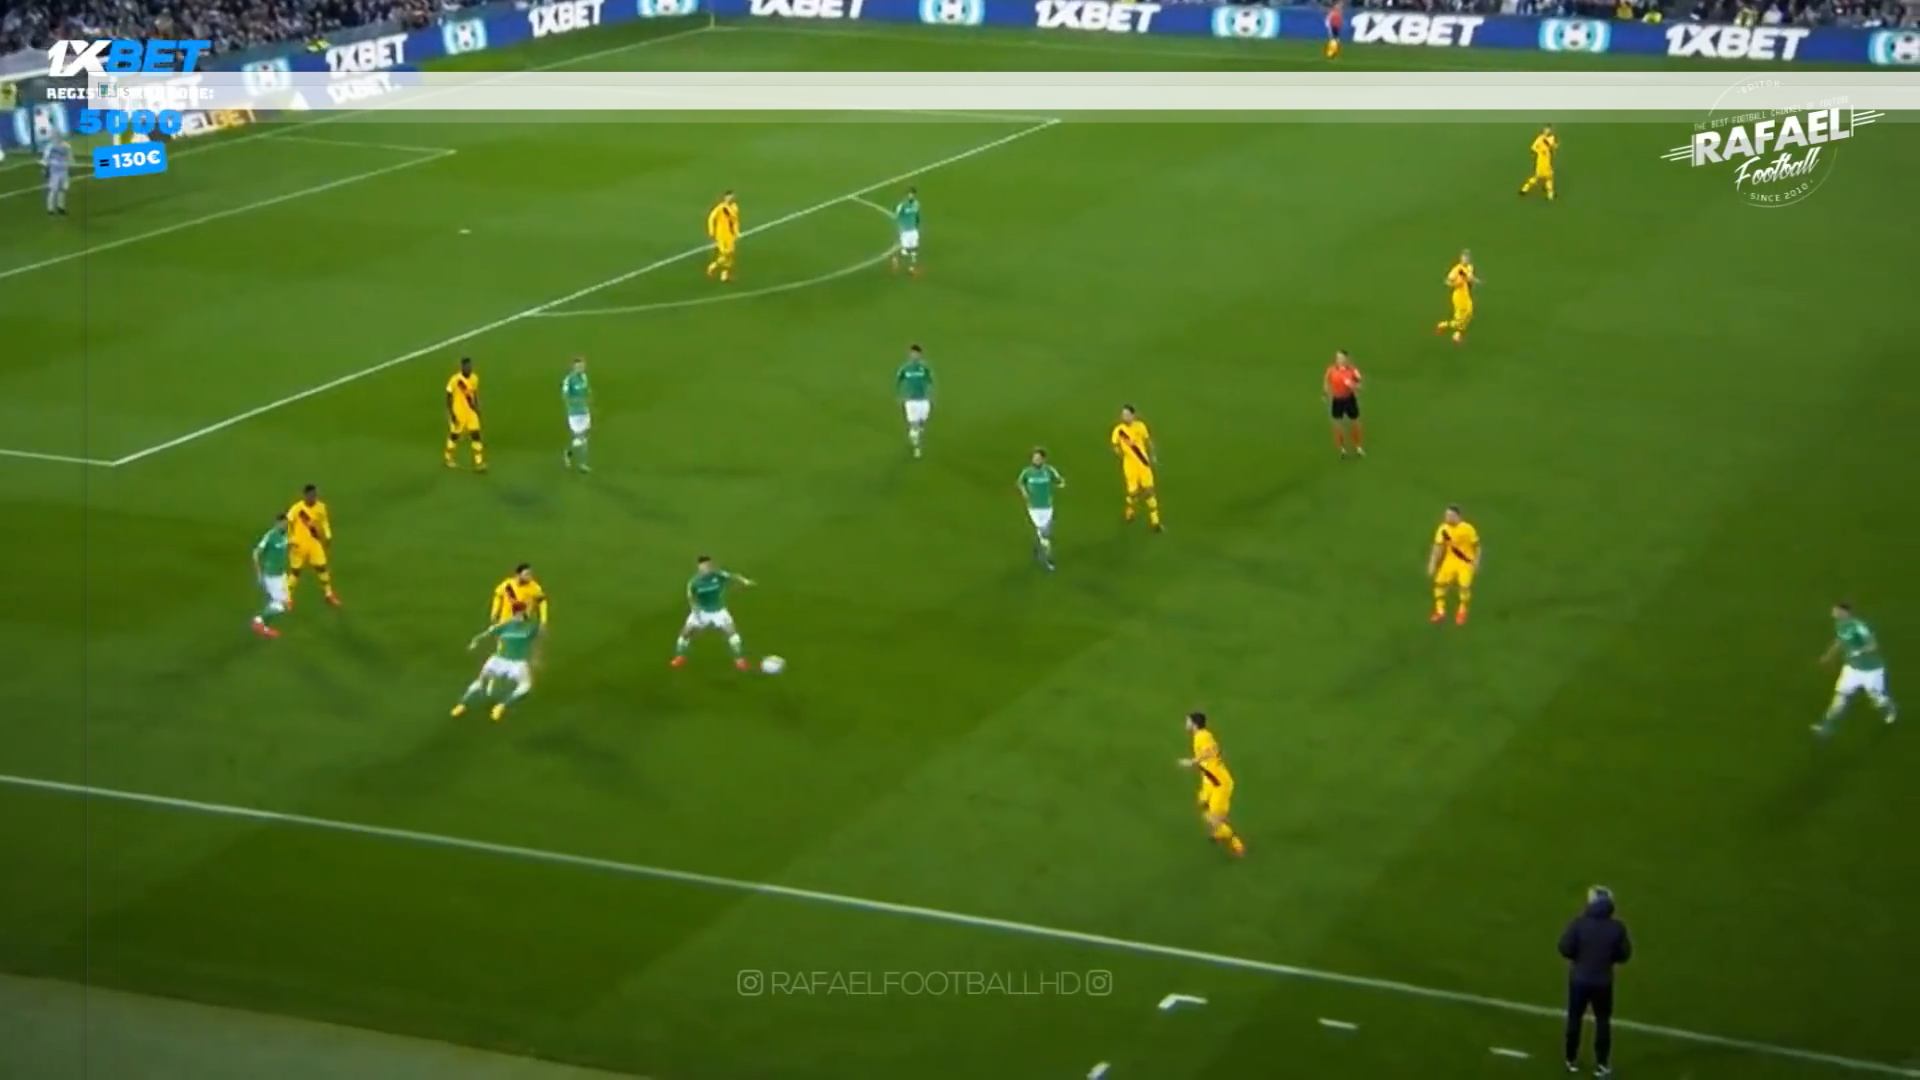ft: (760, 650, 790, 680)
